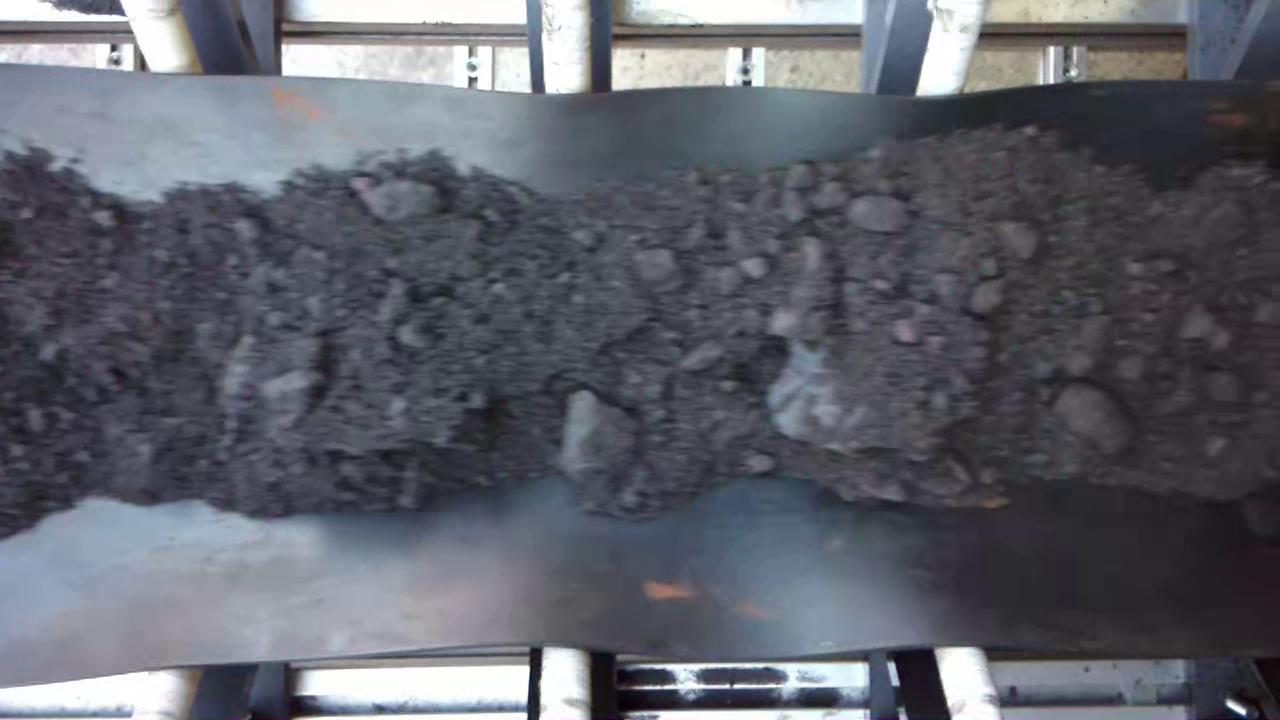conveyor: (10, 108, 1256, 630)
